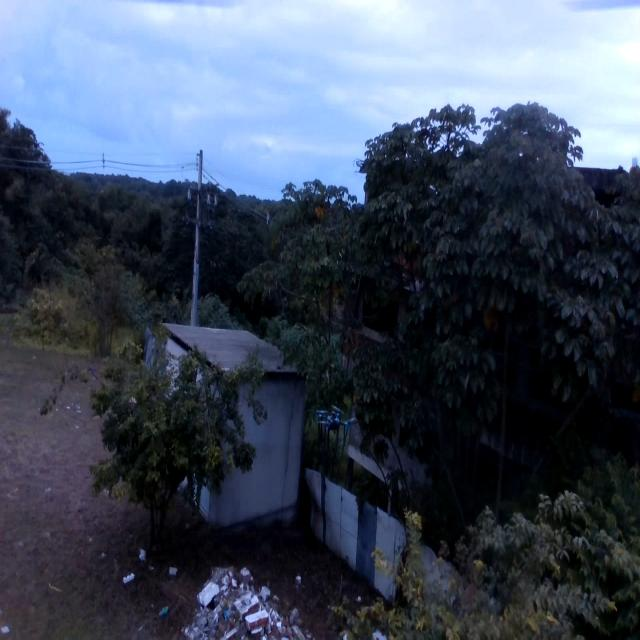-uav-: (307, 392, 365, 463)
